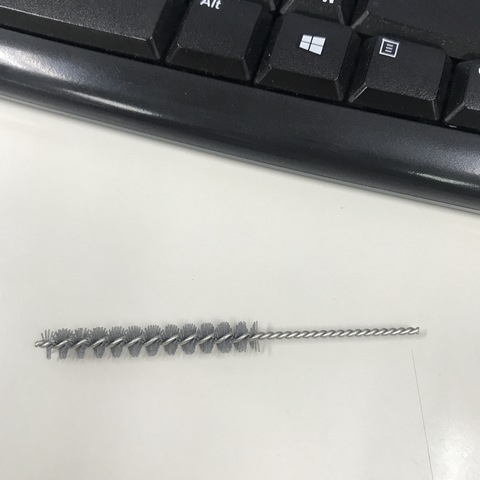Twist Brush-A: (24, 321, 423, 357)
